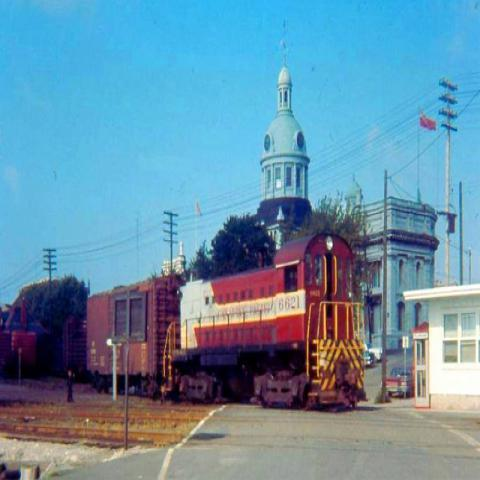car: (380, 366, 414, 398), (365, 341, 382, 362)
